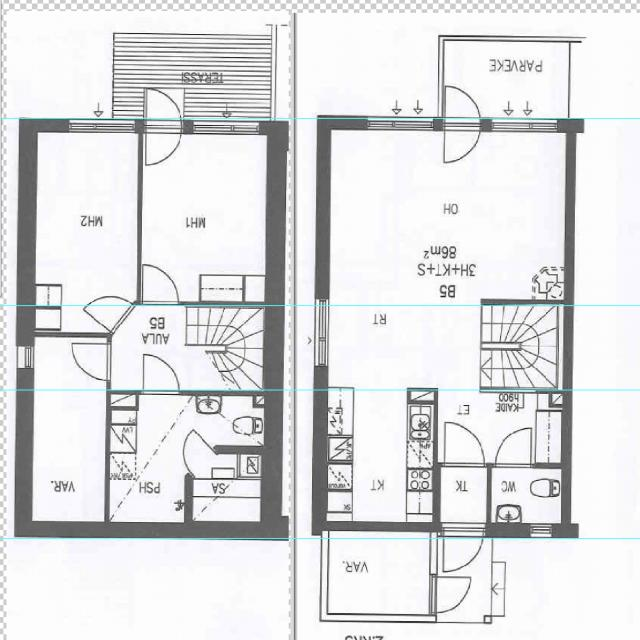door: (84, 284, 134, 333), (168, 428, 216, 477), (444, 522, 484, 579), (443, 80, 481, 132), (443, 119, 481, 170), (145, 82, 182, 132), (145, 119, 182, 169), (445, 422, 485, 468), (494, 426, 531, 468), (431, 576, 474, 612), (143, 353, 180, 394), (142, 264, 178, 304), (71, 344, 109, 379)
